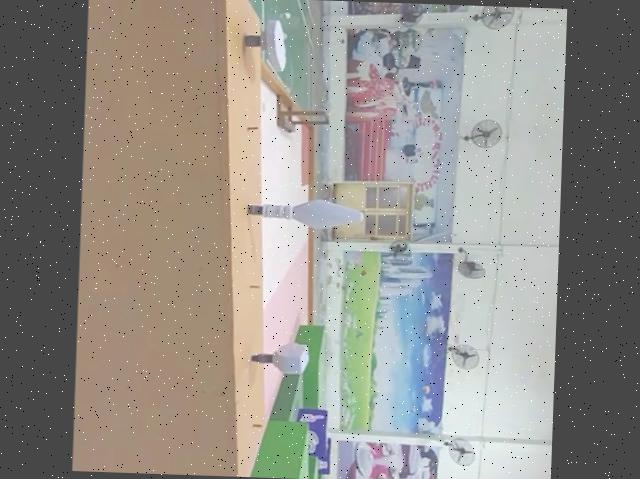Fist: (250, 338, 311, 375)
Hand: (245, 17, 293, 70)
Sph: (245, 192, 366, 229)
